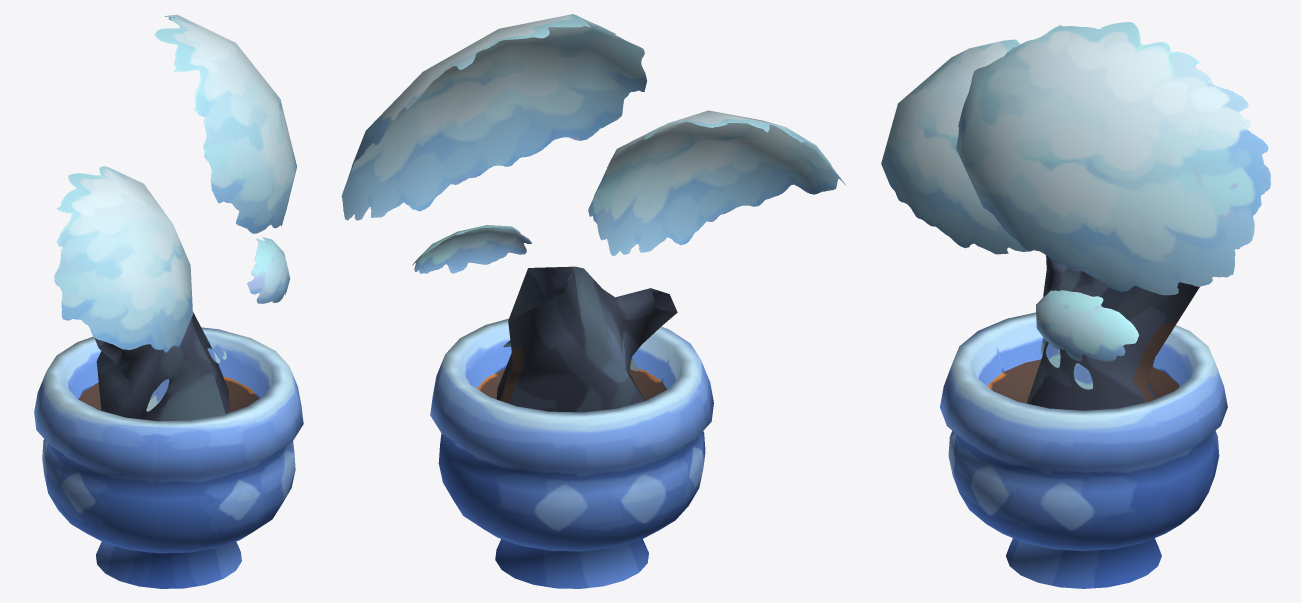
The picture shows the model from 3 angles, left to right: view 1: azimuth 30°, elevation 25°; view 2: azimuth 150°, elevation 25°; view 3: azimuth 270°, elevation 25°; orthographic projection. The views are drawn at different scales.
Visible parts, largest first — view 1: SM_A4c; view 2: SM_A4c; view 3: SM_A4c.
Part boxes in pixels (box(x1,y1,x2,y2)): SM_A4c: box(34, 14, 303, 588); SM_A4c: box(341, 14, 845, 588); SM_A4c: box(881, 22, 1270, 588).
Bounding box in the file's own units: 157 × 223 × 152.
Materials: 1 (1 with a texture image).
